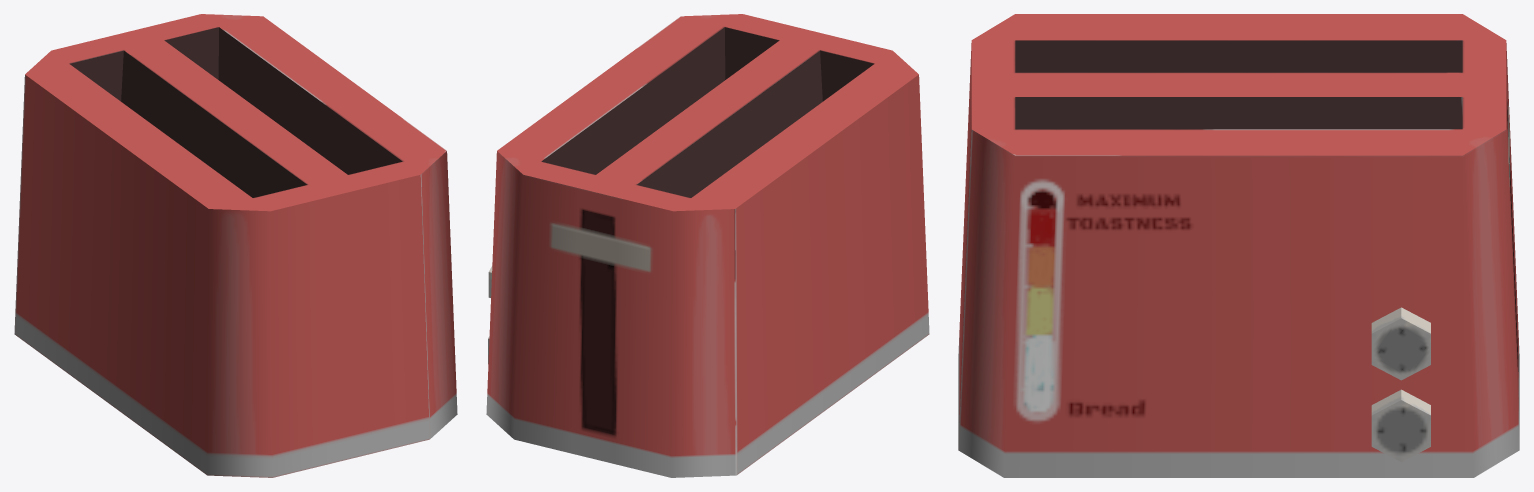
The model's file is toaster.fbx.
3 renders of one model, left to right at view 1: azimuth 30°, elevation 25°; view 2: azimuth 150°, elevation 25°; view 3: azimuth 270°, elevation 25°, orthographic. The views are drawn at different scales.
Parts seen in each view (by area): view 1: Toaster; view 2: Toaster; view 3: Toaster.
Part boxes in pixels (box(x1,y1,x2,y2)): Toaster: box(14, 14, 457, 477); Toaster: box(486, 14, 929, 477); Toaster: box(958, 14, 1519, 477).
Size of the model in its own units: 0.3193 by 0.3 by 0.4786.
